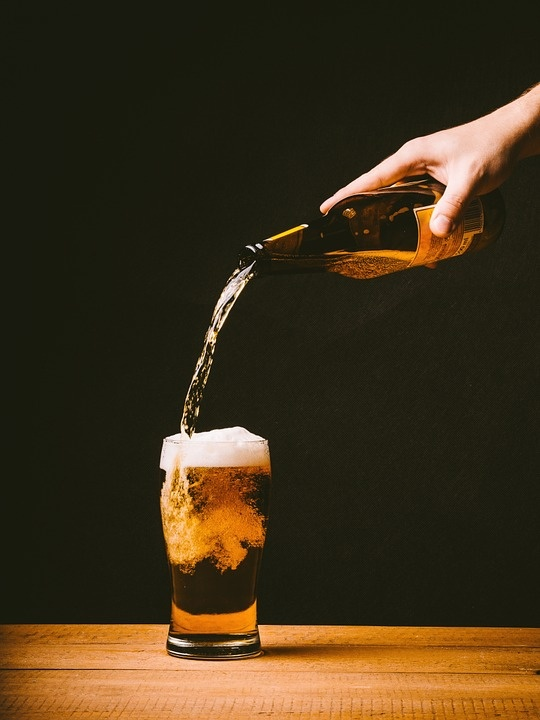glassBeer: (156, 427, 278, 662)
